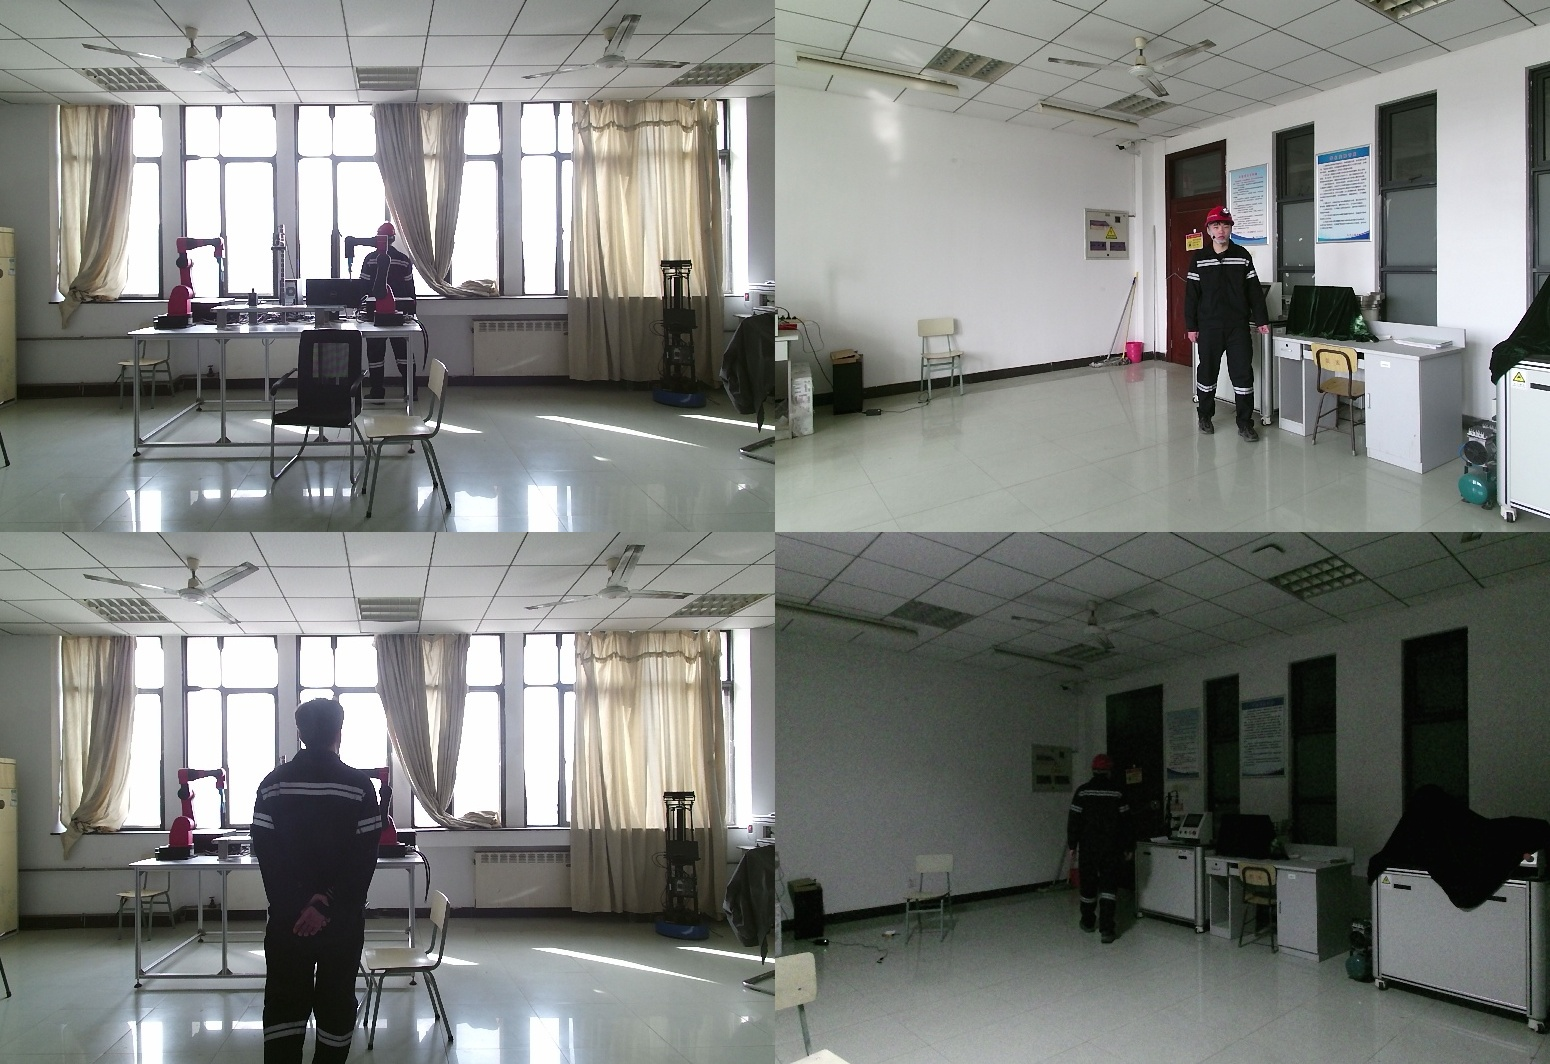person: (249, 699, 398, 1064), (1187, 207, 1275, 440), (1065, 754, 1141, 961), (353, 224, 417, 414)
